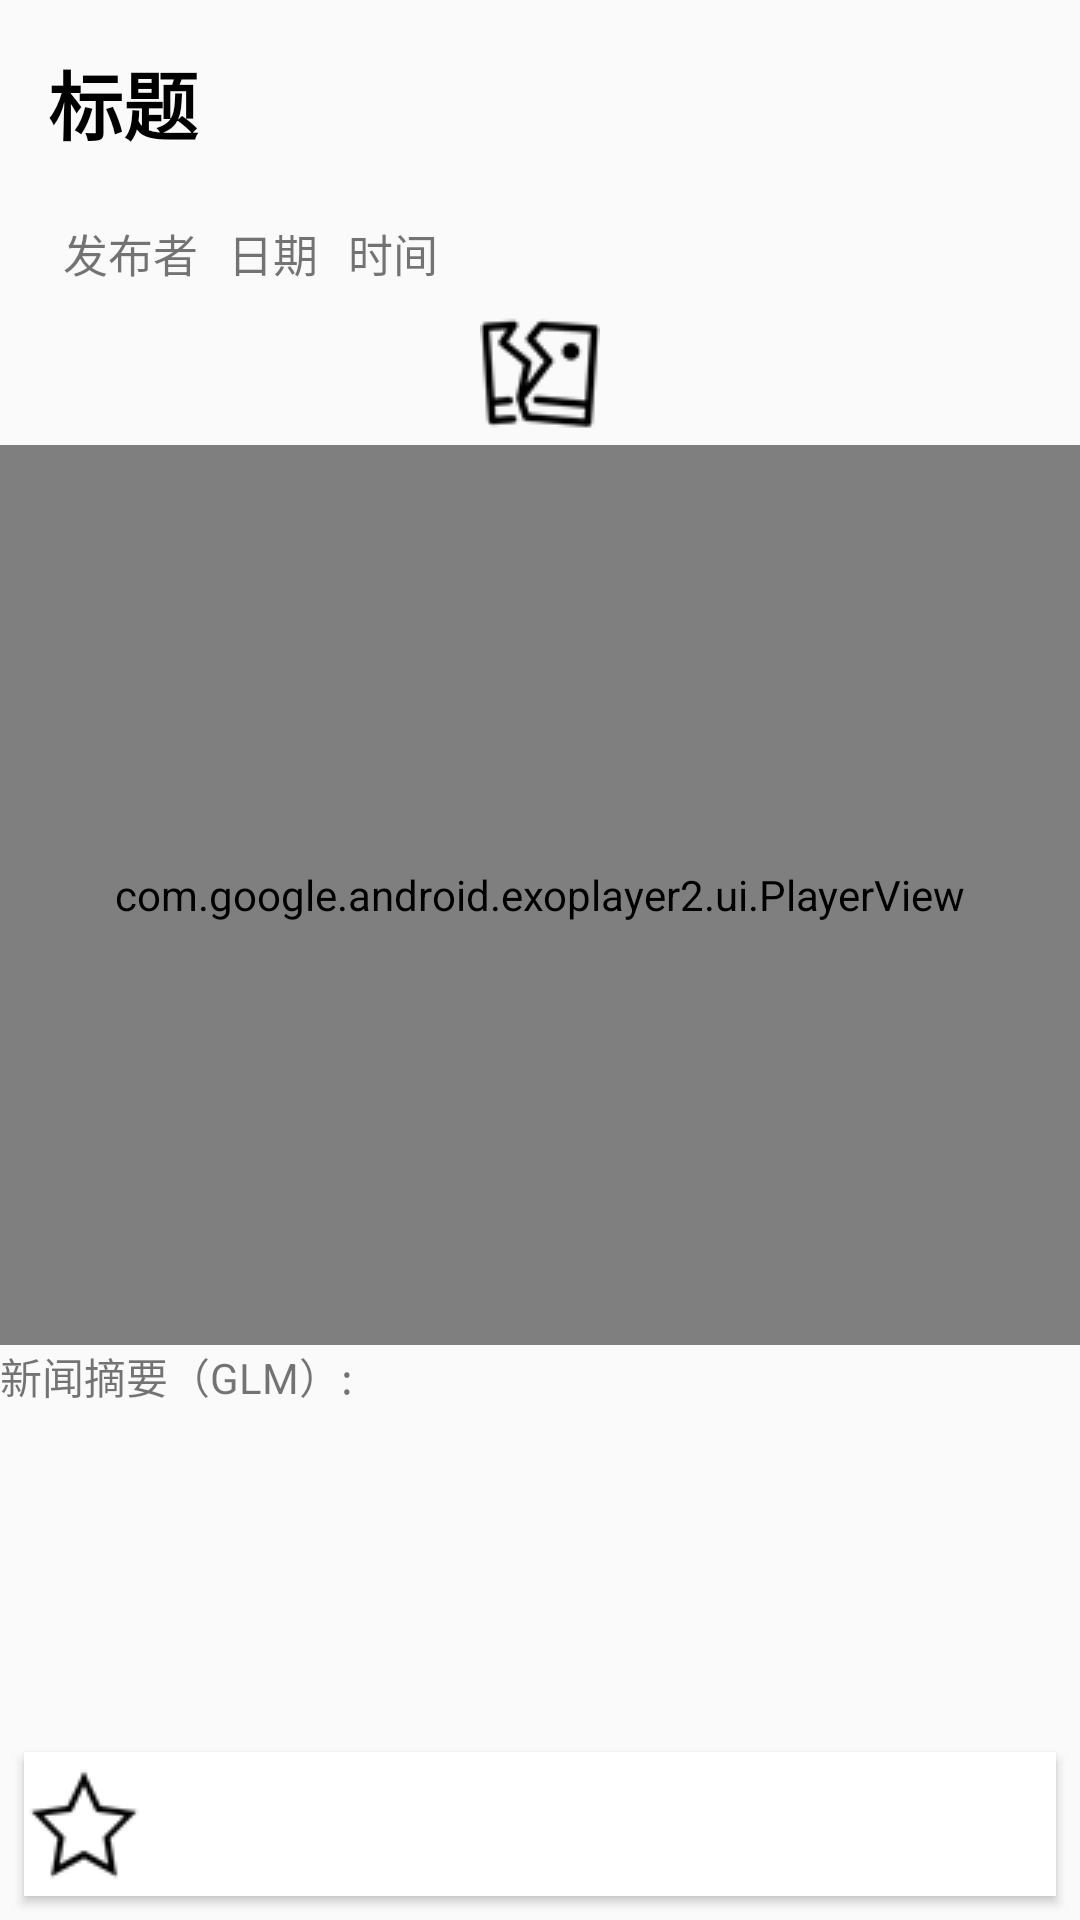

Screen size 1080px x 1920px. Icon name, then its box in pixels as (x1, y1, x2, y2):
error: (480, 319, 600, 428)
